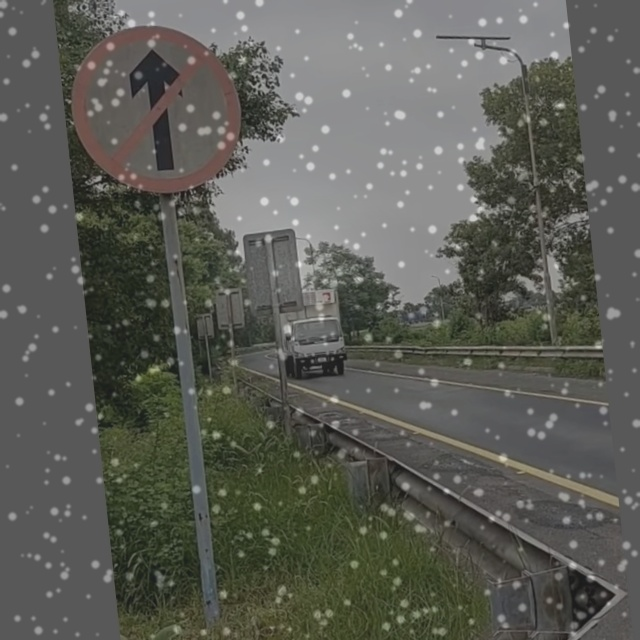No_Entry: (66, 18, 250, 198)
